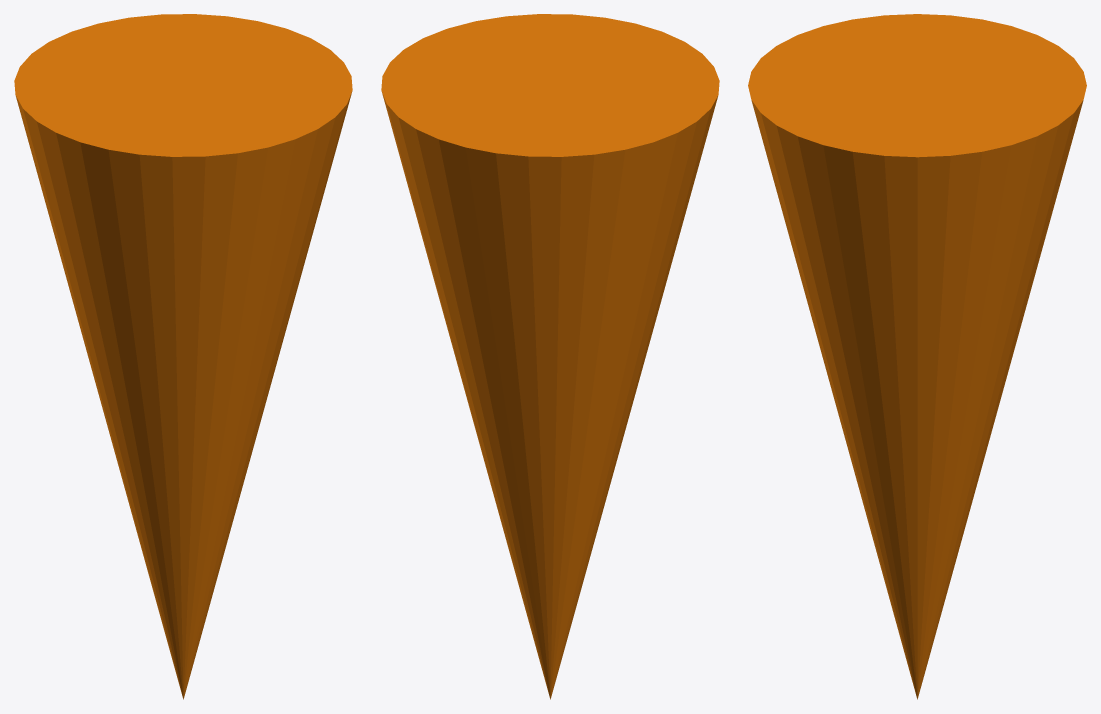
The model's file is MarkerCone.fbx.
3 views of the same model, side by side, from view 1: azimuth 30°, elevation 25°; view 2: azimuth 150°, elevation 25°; view 3: azimuth 270°, elevation 25° (orthographic).
Visible parts, largest first — view 1: MarkerCone; view 2: MarkerCone; view 3: MarkerCone.
Part boxes in pixels (<box>): MarkerCone: <box>14,14,352,699</box>; MarkerCone: <box>381,14,719,699</box>; MarkerCone: <box>748,14,1086,699</box>.
Size of the model in its own units: 15 by 30 by 15.
